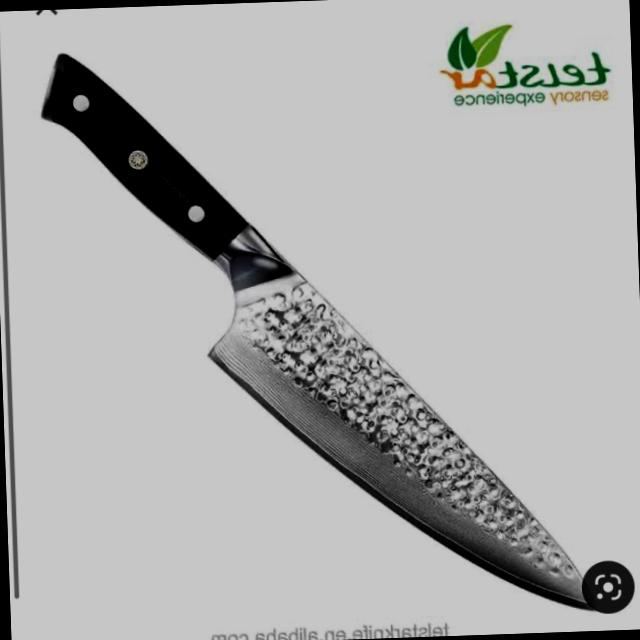knife: (10, 47, 590, 613)
